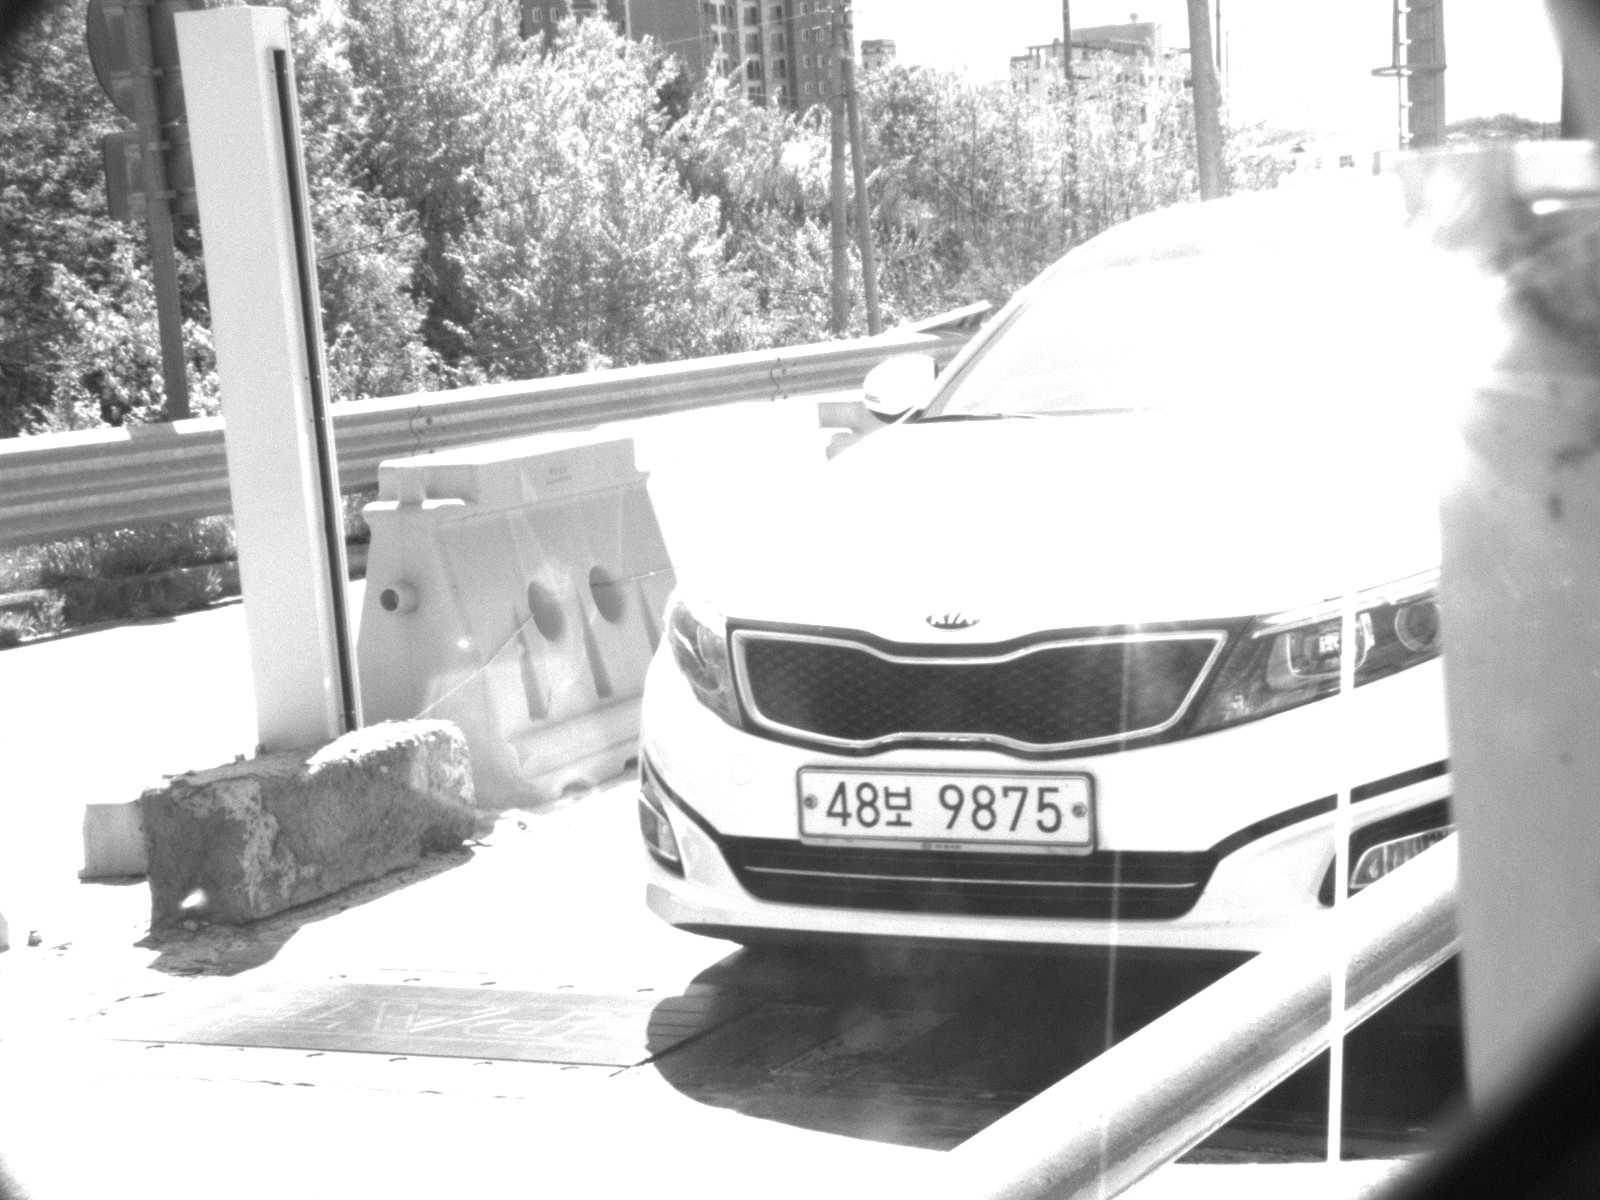car: (629, 175, 1442, 976)
plate: (796, 762, 1100, 852)
